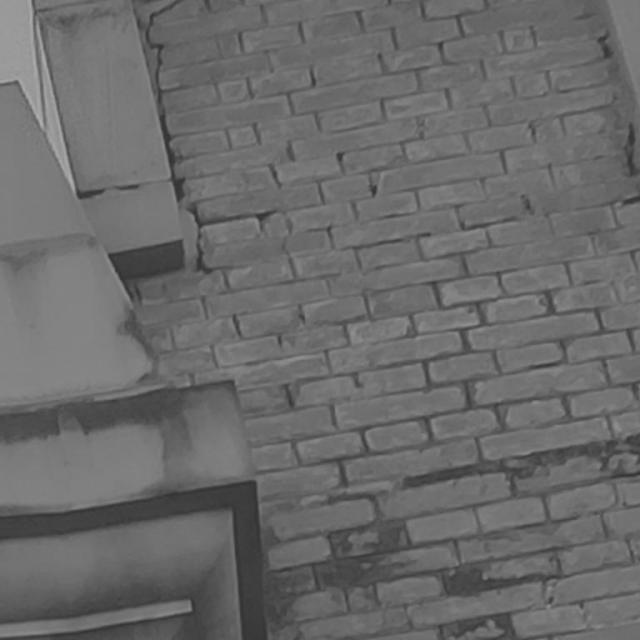crack: (146, 2, 212, 274), (624, 122, 640, 178)
